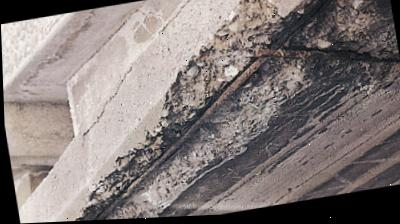exposed_rebar: (140, 0, 400, 177)
spalling: (75, 0, 400, 221)
